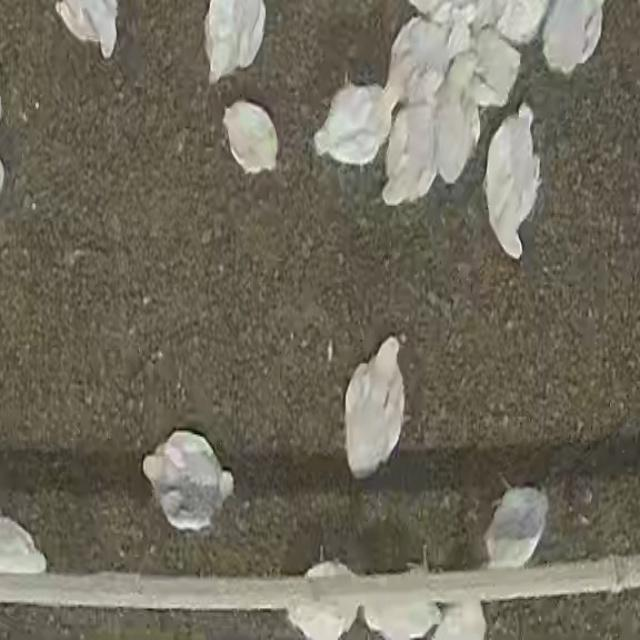chicken: (130, 427, 237, 531), (344, 326, 408, 478), (380, 68, 444, 206), (483, 108, 541, 260), (432, 56, 481, 188), (388, 9, 466, 88), (312, 84, 387, 166), (454, 19, 526, 102), (289, 558, 360, 640), (482, 484, 547, 569), (220, 100, 278, 175), (364, 590, 439, 640)
